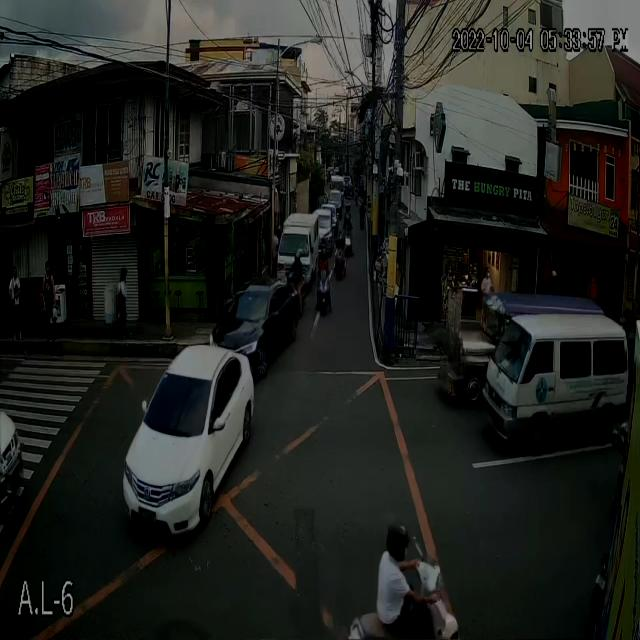Full-Faced: (384, 513, 413, 561)
